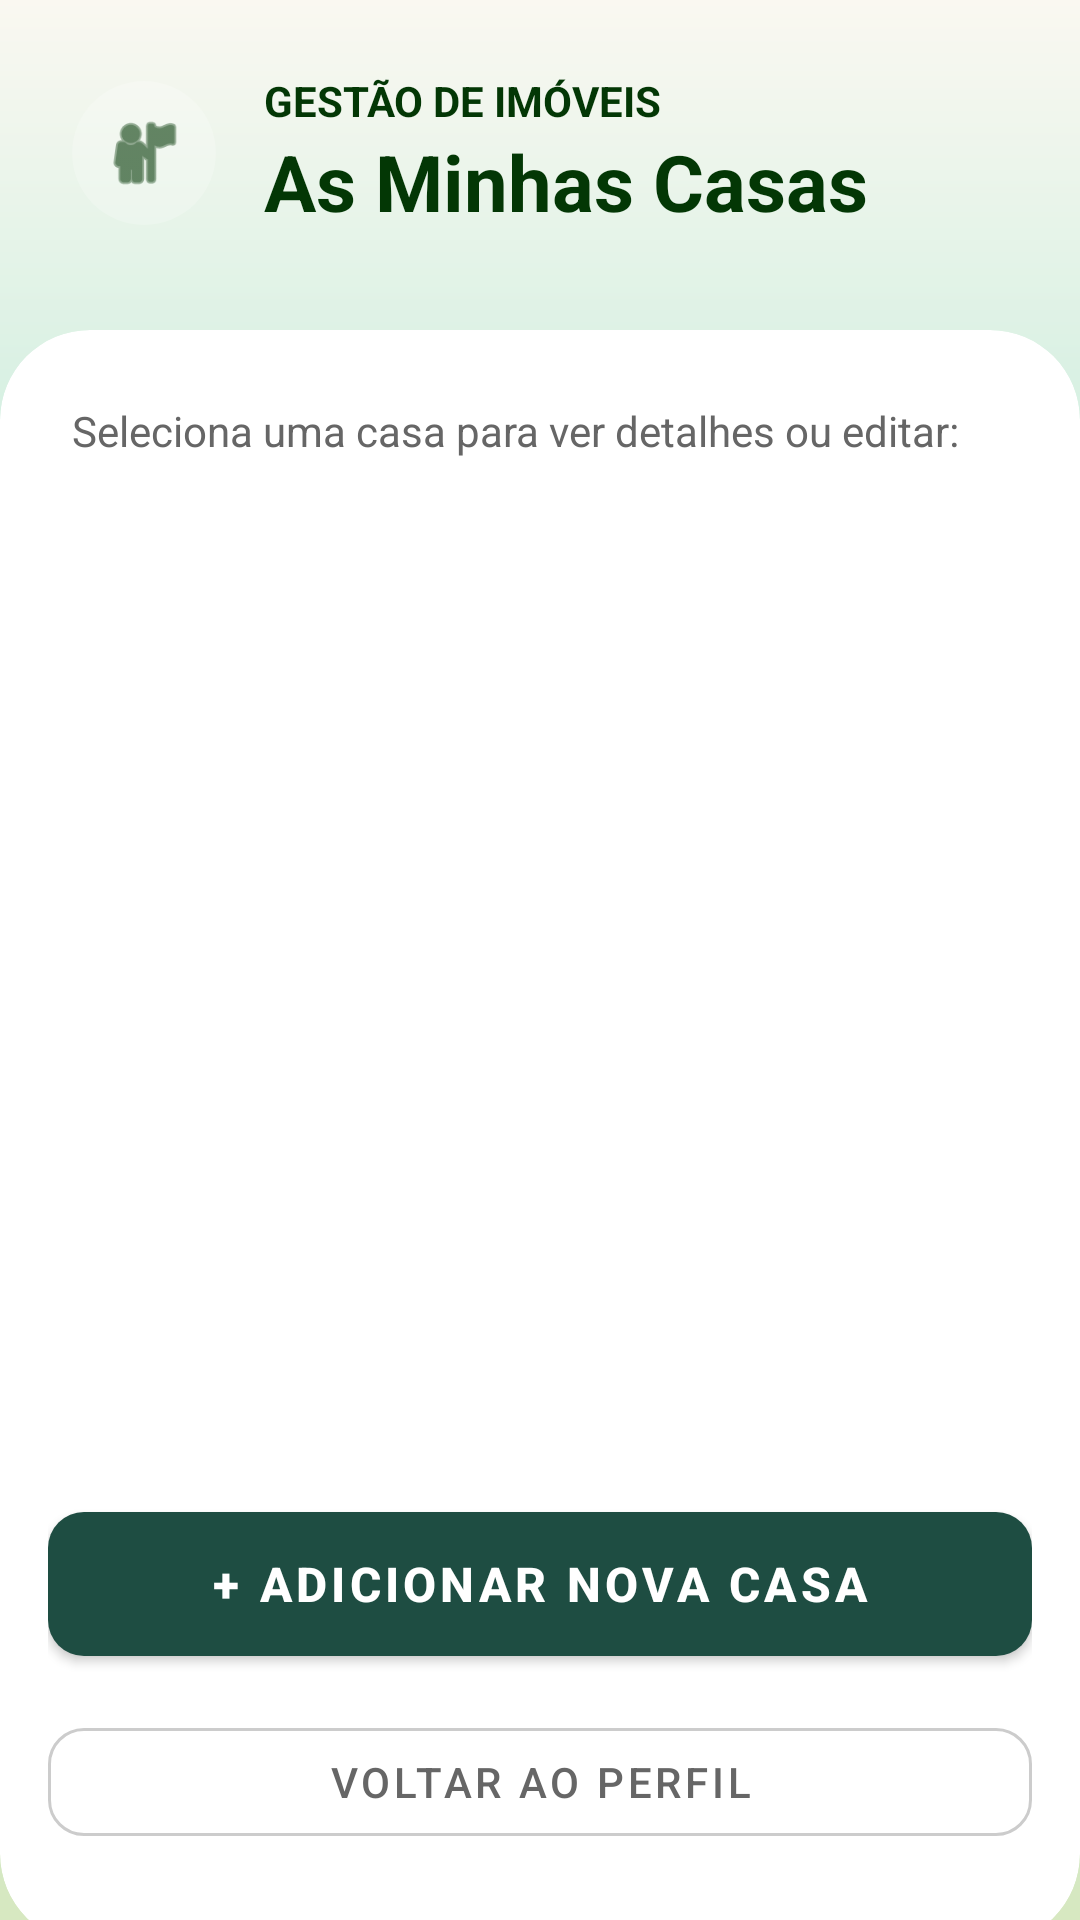

Where icons sit on this 1080w x 1920h app screen, as {"x1": x1, "y1": y1, "x2": x2, "y2": y2}:
myplaces: {"x1": 113, "y1": 122, "x2": 177, "y2": 185}
